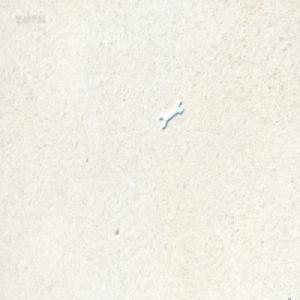Wrench: (158, 101, 183, 132)
